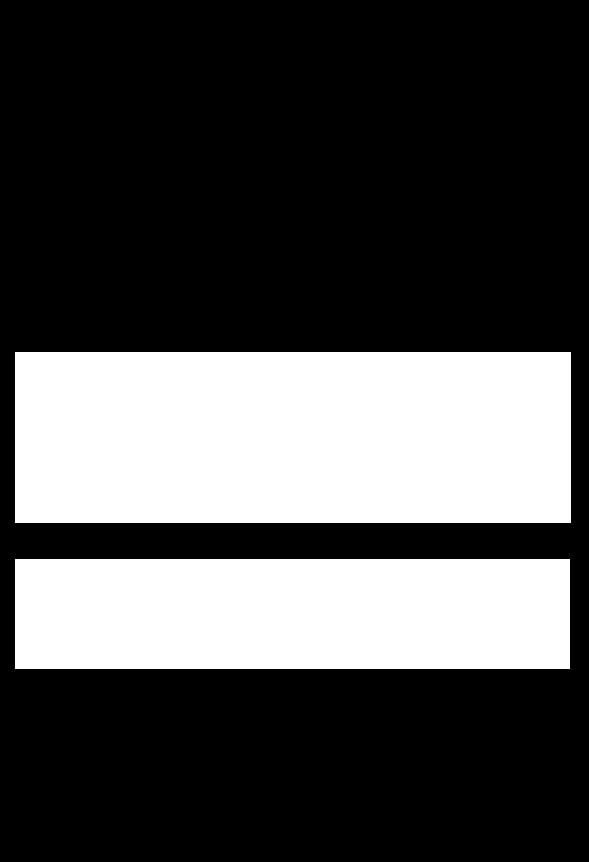table: (15, 352, 570, 522), (15, 559, 569, 668)
